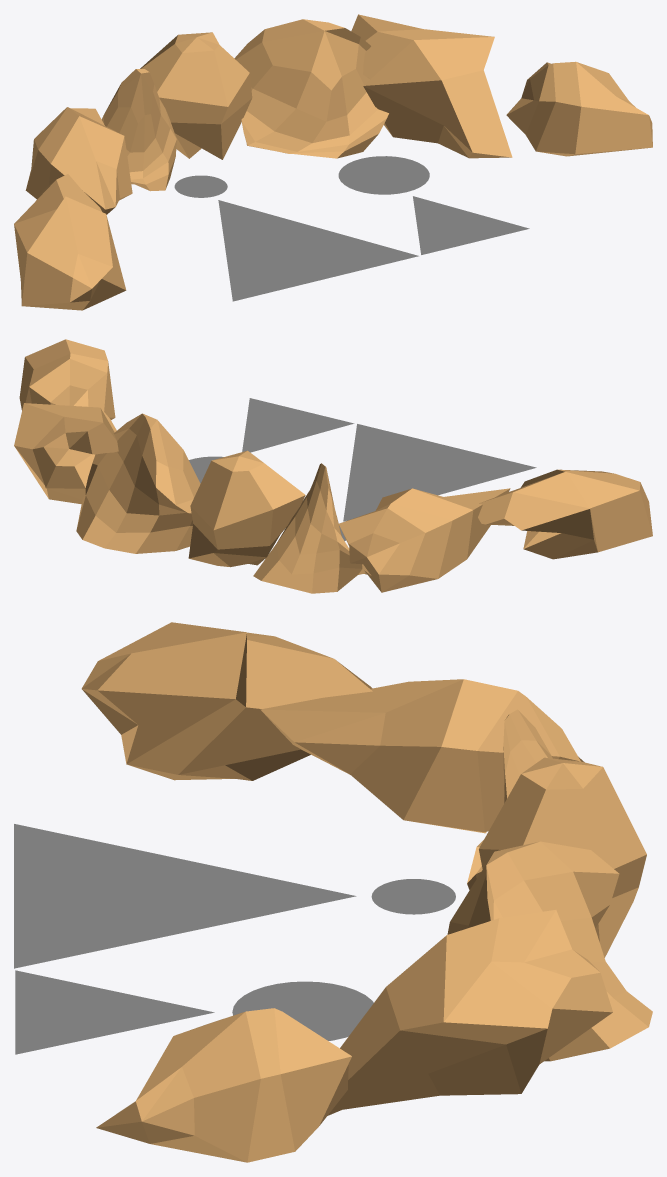
File: Stones.glb
3 renders of one model, top to bottom at view 1: azimuth 30°, elevation 25°; view 2: azimuth 150°, elevation 25°; view 3: azimuth 270°, elevation 25°, orthographic. The views are drawn at different scales.
Parts seen in each view (by area): view 1: Stone5, Stone6, Stone1, Plane, Stone7, Stone4, Stone2, Stone3, Plane.001, Circle, Circle.001; view 2: Stone5, Stone1, Stone2, Stone4, Plane, Stone6, Stone3, Stone7, Plane.001, Circle; view 3: Stone6, Stone1, Stone2, Stone7, Plane, Stone5, Stone4, Plane.001, Circle, Stone3, Circle.001.
Part boxes in pixels (x1=…): Stone5: x1=234, y1=19, x2=388, y2=158; Stone6: x1=351, y1=14, x2=512, y2=158; Stone1: x1=14, y1=174, x2=126, y2=310; Plane: x1=218, y1=200, x2=418, y2=301; Stone7: x1=506, y1=61, x2=652, y2=156; Stone4: x1=140, y1=32, x2=252, y2=159; Stone2: x1=25, y1=107, x2=132, y2=214; Stone3: x1=101, y1=69, x2=176, y2=191; Plane.001: x1=413, y1=196, x2=529, y2=254; Circle: x1=338, y1=156, x2=429, y2=194; Circle.001: x1=174, y1=175, x2=227, y2=197; Stone5: x1=76, y1=413, x2=200, y2=553; Stone1: x1=478, y1=469, x2=652, y2=559; Stone2: x1=338, y1=488, x2=510, y2=592; Stone4: x1=188, y1=450, x2=305, y2=567; Plane: x1=343, y1=424, x2=536, y2=521; Stone6: x1=14, y1=403, x2=118, y2=504; Stone3: x1=253, y1=463, x2=371, y2=593; Stone7: x1=19, y1=339, x2=115, y2=419; Plane.001: x1=242, y1=398, x2=354, y2=452; Circle: x1=189, y1=456, x2=223, y2=483; Stone6: x1=327, y1=910, x2=612, y2=1115; Stone1: x1=81, y1=622, x2=372, y2=780; Stone2: x1=260, y1=679, x2=584, y2=833; Stone7: x1=96, y1=1008, x2=351, y2=1162; Plane: x1=14, y1=824, x2=356, y2=968; Stone5: x1=447, y1=841, x2=652, y2=1061; Stone4: x1=479, y1=757, x2=646, y2=957; Plane.001: x1=15, y1=970, x2=214, y2=1054; Circle: x1=232, y1=981, x2=373, y2=1040; Stone3: x1=467, y1=709, x2=552, y2=889; Circle.001: x1=371, y1=879, x2=455, y2=914.
Size of what is drawn, in the model's own units: 496 by 95.05 by 274.
